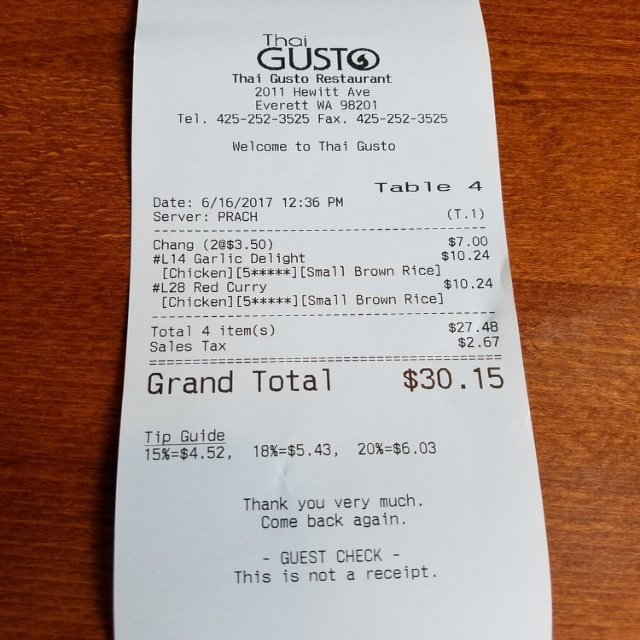invoice_table: (153, 233, 493, 309)
invoice_title: (230, 71, 391, 112)
invoice_total: (252, 365, 506, 394)
